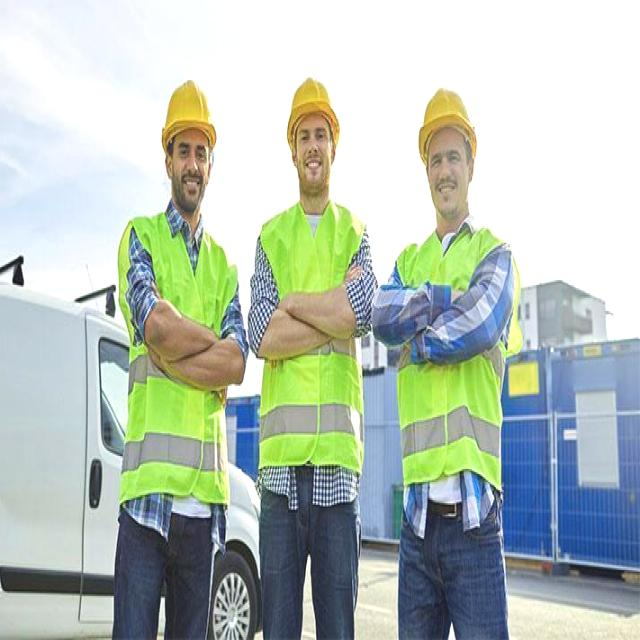face_nomask: (428, 125, 470, 220), (166, 134, 218, 208), (291, 112, 338, 192)
head_helmet: (417, 85, 477, 171), (159, 75, 217, 148), (286, 75, 338, 148)
person: (118, 80, 244, 640), (250, 67, 372, 640), (391, 83, 516, 635)
vest: (122, 215, 232, 505), (258, 205, 363, 464), (399, 228, 503, 487)
